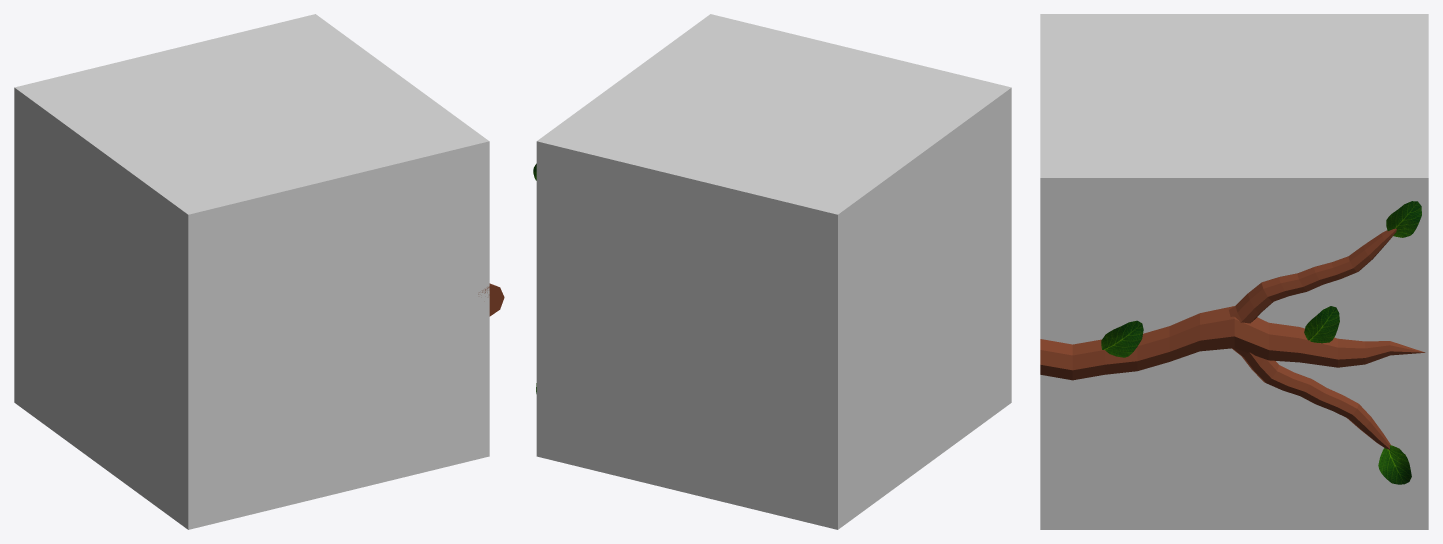
Rendered from branch_trident.fbx.
The picture shows the model from 3 angles, left to right: view 1: azimuth 30°, elevation 25°; view 2: azimuth 150°, elevation 25°; view 3: azimuth 270°, elevation 25°; orthographic projection. The views are drawn at different scales.
Visible parts, largest first — view 1: Cube; view 2: Cube; view 3: Cube, Cylinder, Cylinder.001, Cylinder.002, Plane.002, Plane.003, Plane.001, Plane.
Part boxes in pixels (x1,y1,x2,y2): Cube: (14,14,489,529); Cube: (536,14,1011,529); Cube: (1040,14,1428,529); Cylinder: (1040,306,1425,380); Cylinder.001: (1229,228,1396,323); Cylinder.002: (1232,348,1390,449); Plane.002: (1101,320,1143,357); Plane.003: (1378,445,1411,484); Plane.001: (1304,306,1339,343); Plane: (1386,201,1421,237).
Size of the model in its own units: 212 by 200 by 200.
